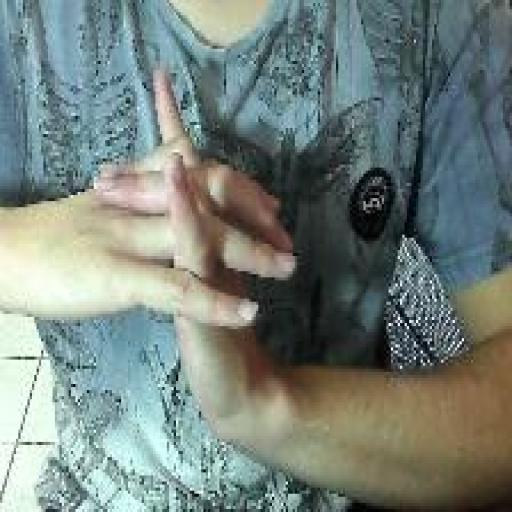Ushi -ox-: (92, 62, 300, 446)
